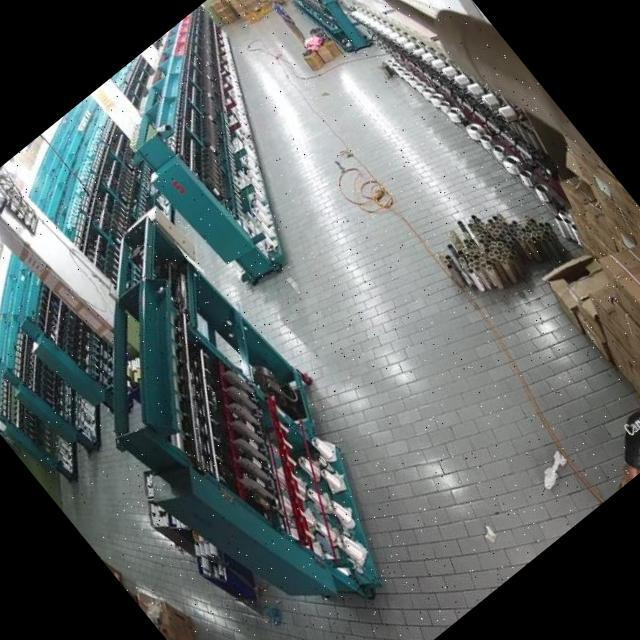person: (597, 364, 640, 482), (260, 0, 312, 47)
